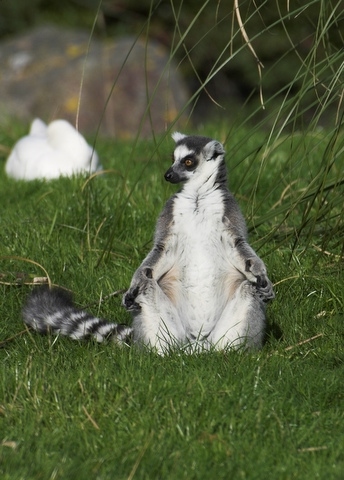cat: (20, 128, 282, 362)
